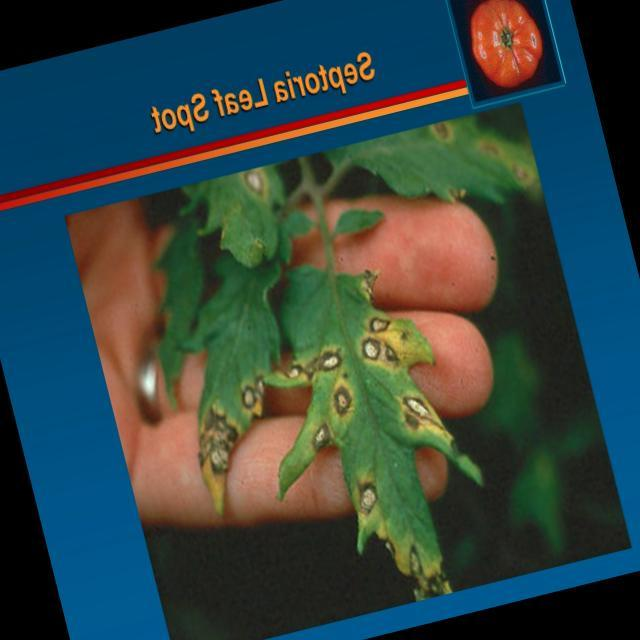Tomato Septoria spot leaf: (243, 243, 512, 622), (142, 235, 338, 522), (326, 106, 543, 256), (170, 158, 304, 279)
